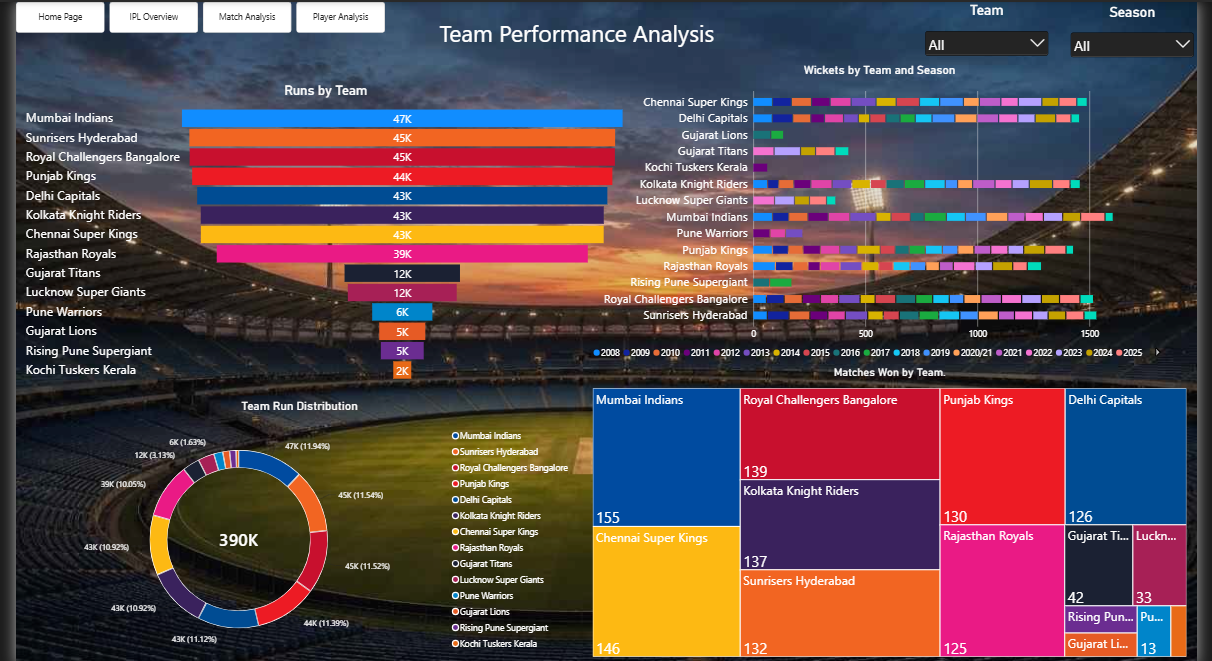

What the dashboard file says about the page in this screenshot:
{"tool":"powerbi","page":{"name":"Team Performance","canvas":[1920,1080],"ordinal":3},"visuals":[{"type":"slicer","title":"Season","fields":{"Values":["Dim_Matches.season"]},"box":[1710,2.5,210,117.5],"z":0},{"type":"textbox","box":[462.5,25,897.5,60],"z":1000},{"type":"funnel","title":"Runs by Team","fields":{"Category":["Dim_BattingTeams.team_name"],"Y":["Dim_TeamSelector.Selected Team Runs"]},"box":[0,117.1,1007.6,514.8],"z":2000},{"type":"barChart","title":"Wickets by Team and Season","fields":{"Category":["Dim_BowlingTeams.team_name"],"Series":["Dim_Matches.season"],"Y":["Dim_TeamSelector.Selected Team Wickets"]},"box":[922.3,85.4,965,515],"z":3000},{"type":"donutChart","title":"Team Run Distribution","fields":{"Category":["Dim_BattingTeams.team_name"],"Y":["Dim_TeamSelector.Selected Team Run Distribution"]},"box":[0,632.5,922.5,447.5],"z":4000},{"type":"treemap","title":"Matches Won by Team.","fields":{"Group":["Dim_WinnerTeams.team_name"],"Values":["Dim_TeamSelector.Selected Team Wins"]},"box":[922.5,577.5,997.5,502.5],"z":5000},{"type":"pageNavigator","box":[0,0,600,50],"z":6000},{"type":"slicer","title":"Team","fields":{"Values":["Dim_TeamSelector.team_name"]},"box":[1472.5,0,210,117.5],"z":7000}]}

Visuals, with their boxes on the page's 1920x1080 design canvas (x1, y1, x2, y2). These are canvas units, not pixel positions in the 1212x661 screenshot, which may show the page scaled, cropped or inside an application window:
"Season" slicer: (1710, 2, 1920, 120)
textbox: (462, 25, 1360, 85)
"Runs by Team" funnel: (0, 117, 1008, 632)
"Wickets by Team and Season" barChart: (922, 85, 1887, 600)
"Team Run Distribution" donutChart: (0, 632, 922, 1080)
"Matches Won by Team." treemap: (922, 578, 1920, 1080)
pageNavigator: (0, 0, 600, 50)
"Team" slicer: (1472, 0, 1682, 118)
